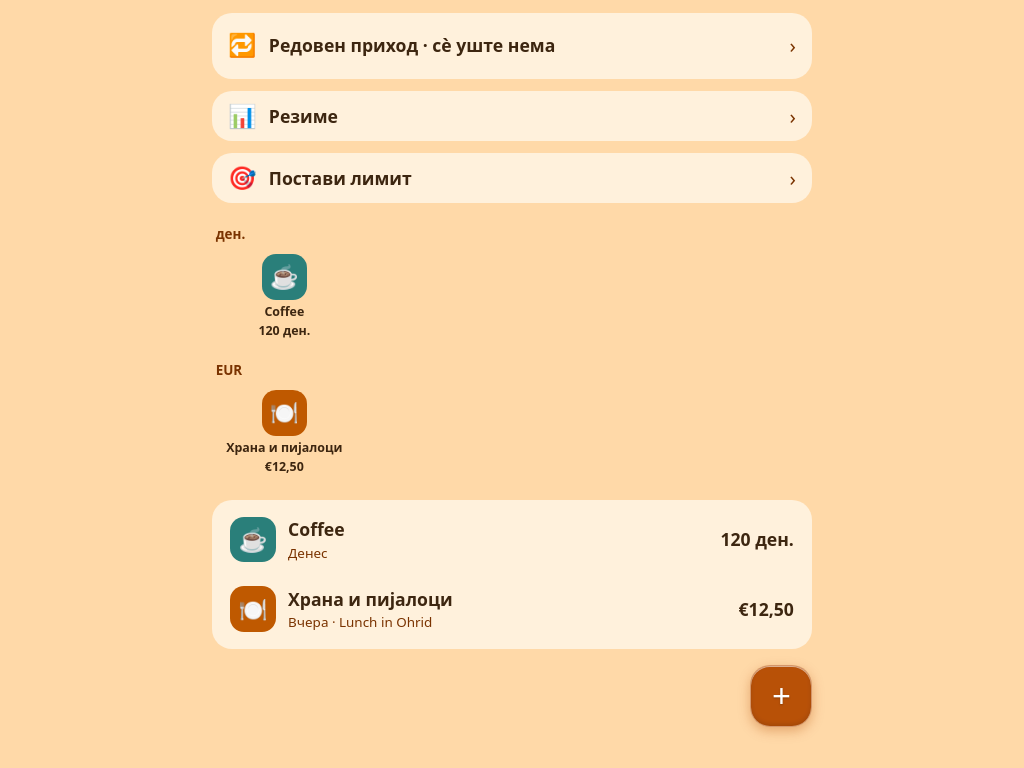
Test: BudgetScreen adding and editing › tapping an entry › opens the sheet filled in with that entry (mk)
The width and height of the screenshot is (1024, 768).
(page scrolled)
Click the button "🍽️ Храна и пијалоци Вчера · Lunch in Ohrid €12,50".
click(253, 609)  # box [218,575,806,643]
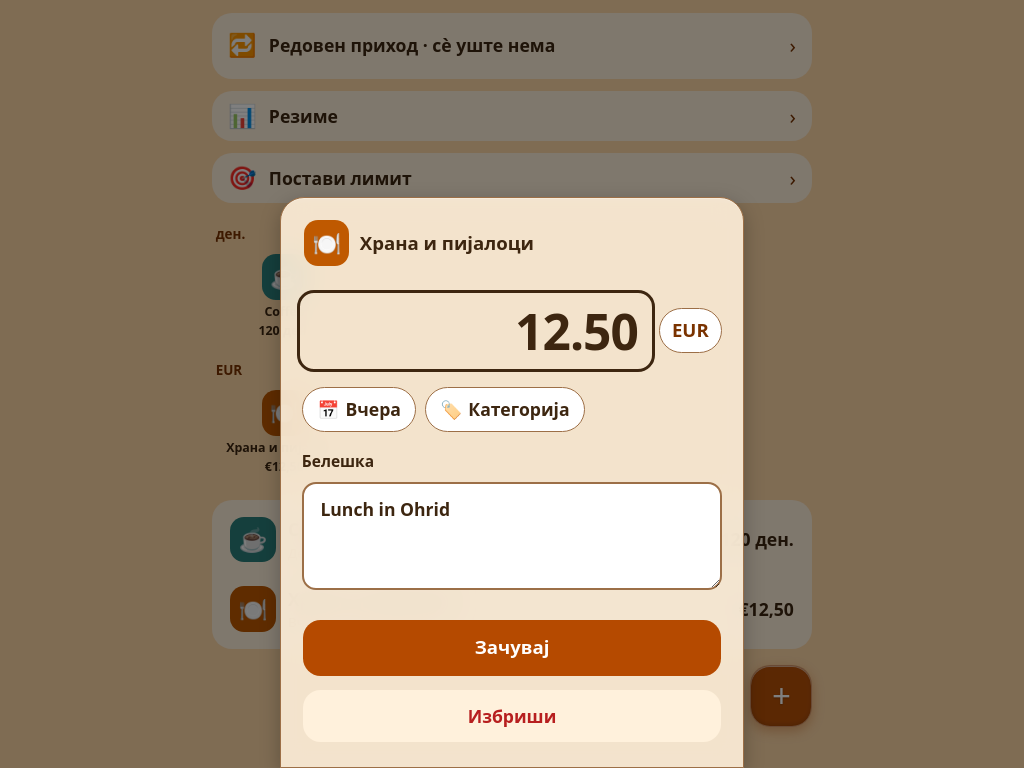
Check: the field named "Износ" holds "12.50", box [300,293,652,369]
